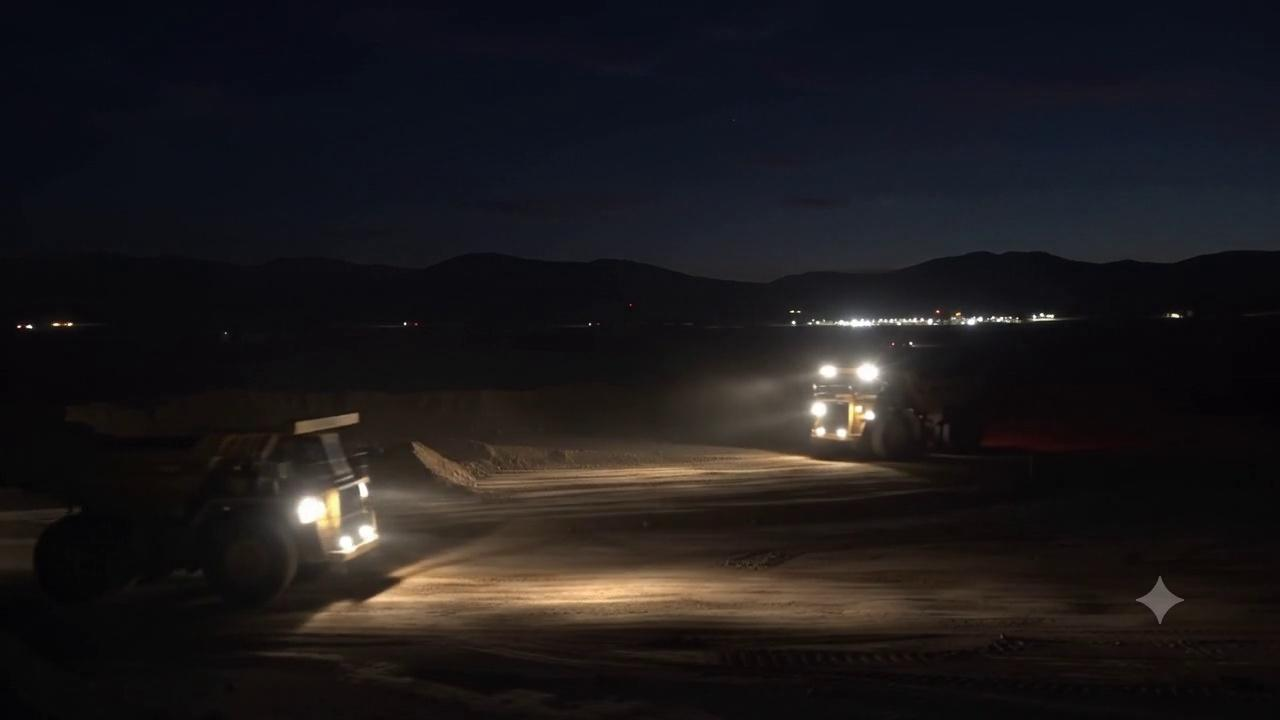CAEX: (13, 411, 387, 610)
